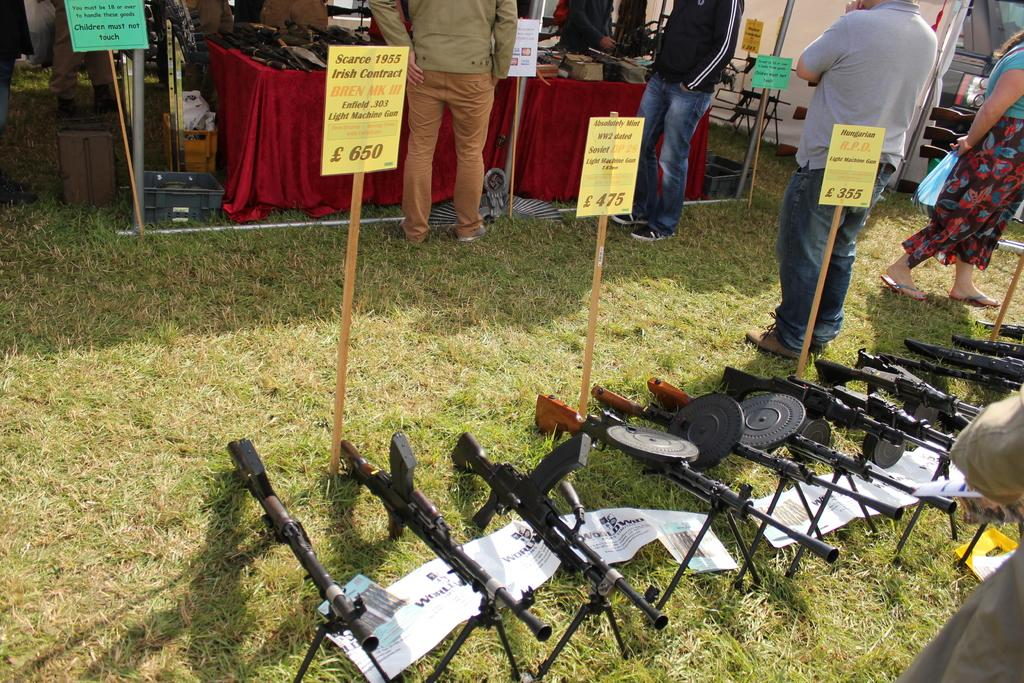non-violence: (740, 1, 947, 361), (881, 28, 1023, 308), (365, 1, 522, 249), (900, 385, 1023, 682), (614, 1, 749, 239), (39, 1, 116, 120), (553, 1, 618, 50)
weapon: (593, 318, 1023, 591), (533, 392, 842, 611), (592, 391, 906, 597), (448, 431, 669, 682), (340, 430, 554, 682), (225, 434, 392, 682), (715, 87, 791, 108), (705, 108, 782, 127)
